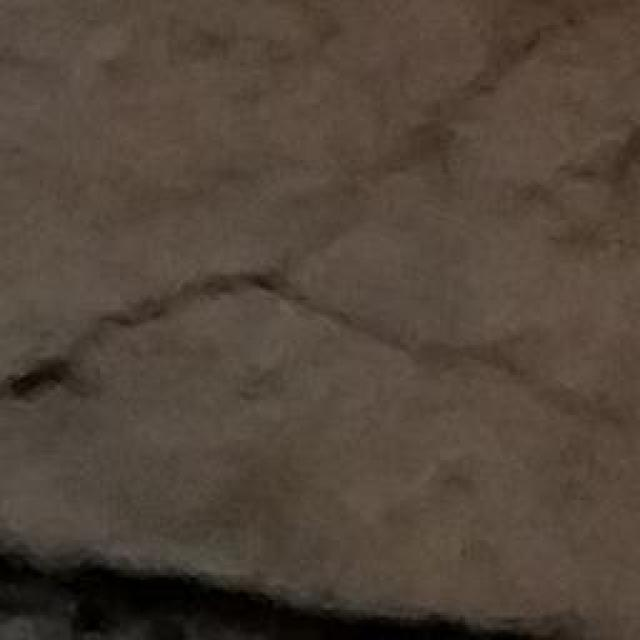Radial: (10, 0, 640, 471)
